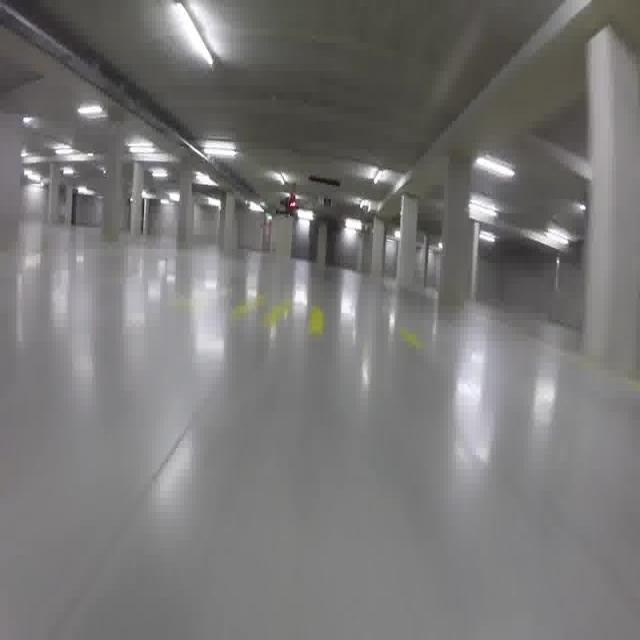drones: (266, 184, 314, 224)
